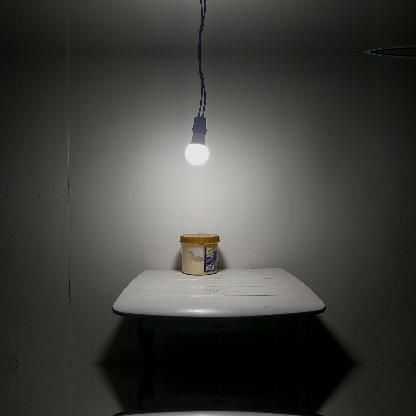Lady-s-Choice: (178, 232, 220, 276)
